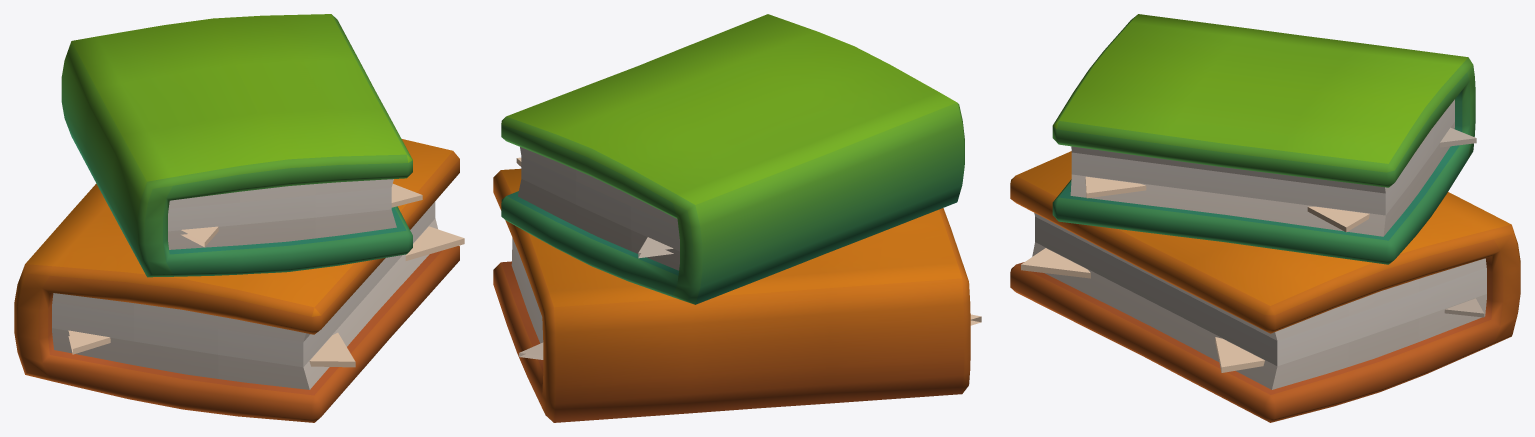
Rendered from obj_Books.fbx.
The picture shows the model from 3 angles, left to right: view 1: azimuth 30°, elevation 25°; view 2: azimuth 150°, elevation 25°; view 3: azimuth 270°, elevation 25°; orthographic projection. The views are drawn at different scales.
Parts seen in each view (by area): view 1: obj_Books; view 2: obj_Books; view 3: obj_Books.
Part boxes in pixels (box(x1,y1,x2,y2)): obj_Books: box(14, 14, 464, 422); obj_Books: box(493, 14, 981, 422); obj_Books: box(1010, 14, 1520, 422).
Size of the model in its own units: 68.54 by 35.09 by 67.03.
